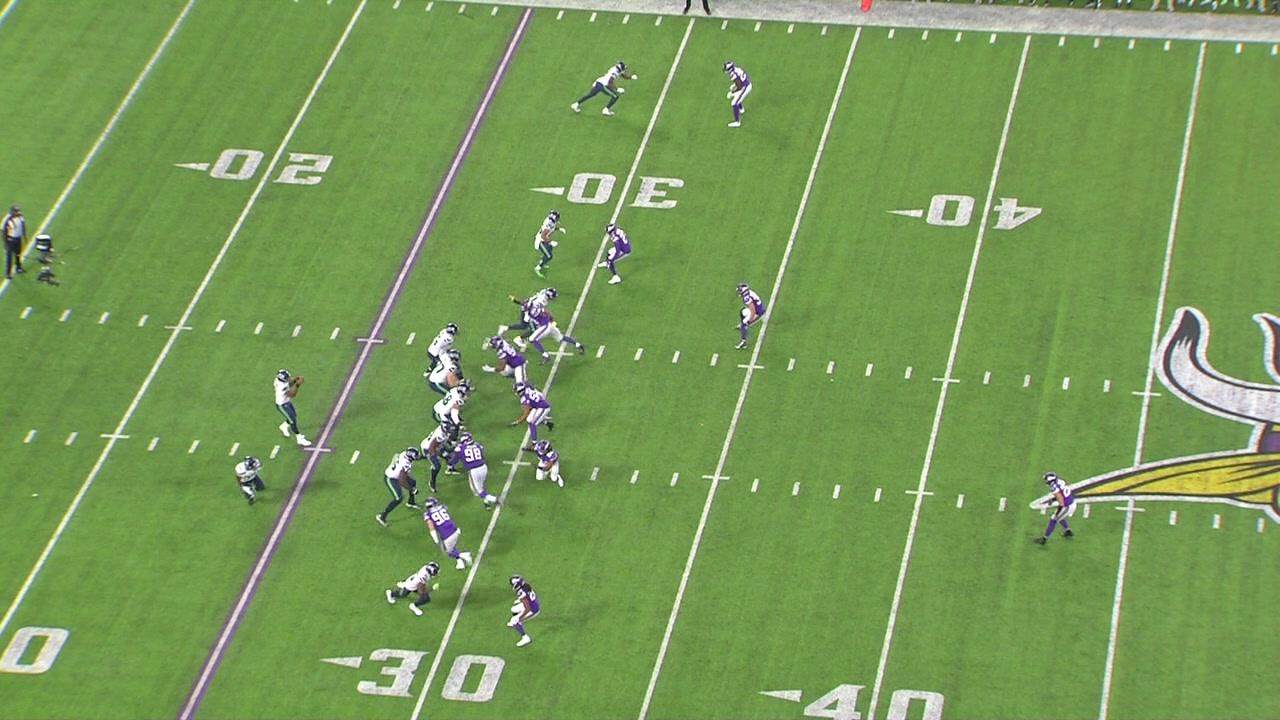player: (508, 293, 587, 367), (441, 431, 505, 513), (495, 284, 560, 349), (569, 60, 640, 118), (375, 445, 422, 531), (422, 496, 475, 572), (271, 366, 316, 448), (506, 381, 556, 452), (384, 560, 444, 619), (1033, 470, 1078, 548), (418, 418, 461, 494), (505, 574, 542, 649), (531, 208, 569, 281), (431, 383, 473, 446), (731, 281, 768, 352), (482, 335, 530, 386), (594, 222, 632, 286), (521, 440, 568, 490), (720, 60, 754, 129), (423, 322, 461, 380), (426, 347, 464, 398), (234, 454, 268, 507)
ref: (0, 205, 30, 283)
